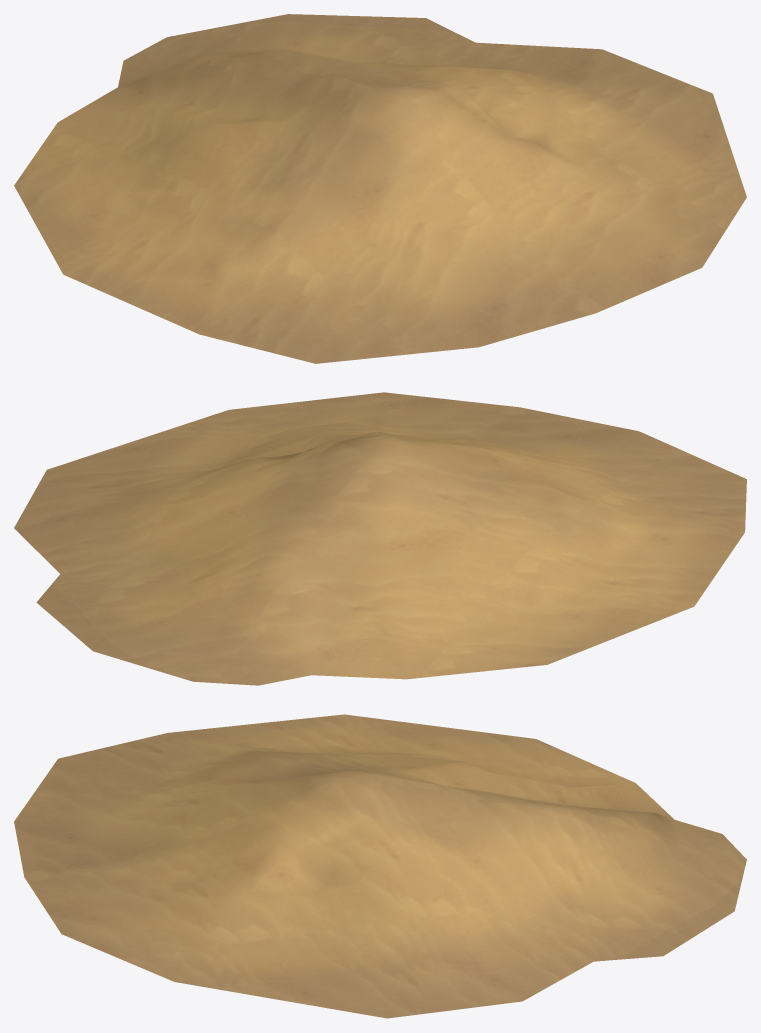
File: Area_16_10.fbx
3 renders of one model, top to bottom at view 1: azimuth 30°, elevation 25°; view 2: azimuth 150°, elevation 25°; view 3: azimuth 270°, elevation 25°, orthographic. The views are drawn at different scales.
Parts seen in each view (by area): view 1: Area_16_10; view 2: Area_16_10; view 3: Area_16_10.
Boxes of the visible parts, x1,y1,x2,y2 form: Area_16_10: (14,14,746,363); Area_16_10: (14,392,746,685); Area_16_10: (14,714,746,1018).
Size of the model in its own units: 1844 by 247 by 1879.
1 material, 1 textured.
